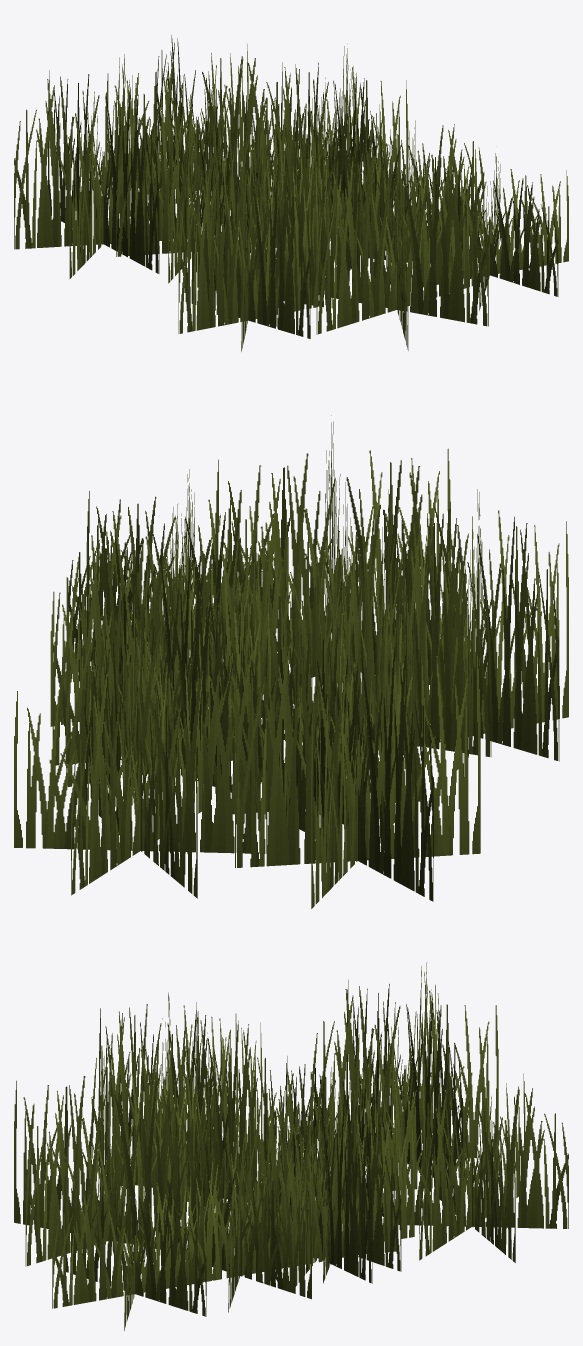
Rendered from grass-overgrown.glb.
3 views of the same model, one above another, from view 1: azimuth 30°, elevation 25°; view 2: azimuth 150°, elevation 25°; view 3: azimuth 270°, elevation 25° (orthographic). The views are drawn at different scales.
Visible parts, largest first — view 1: grass-overgrown-blades; view 2: grass-overgrown-blades; view 3: grass-overgrown-blades.
Boxes of the visible parts, box(x1,y1,x2,y2) form: grass-overgrown-blades: box(14, 35, 568, 351); grass-overgrown-blades: box(14, 415, 568, 908); grass-overgrown-blades: box(14, 962, 568, 1330).
Bounding box in the file's own units: 1.27 × 0.5419 × 1.44.
1 material, 1 textured.
